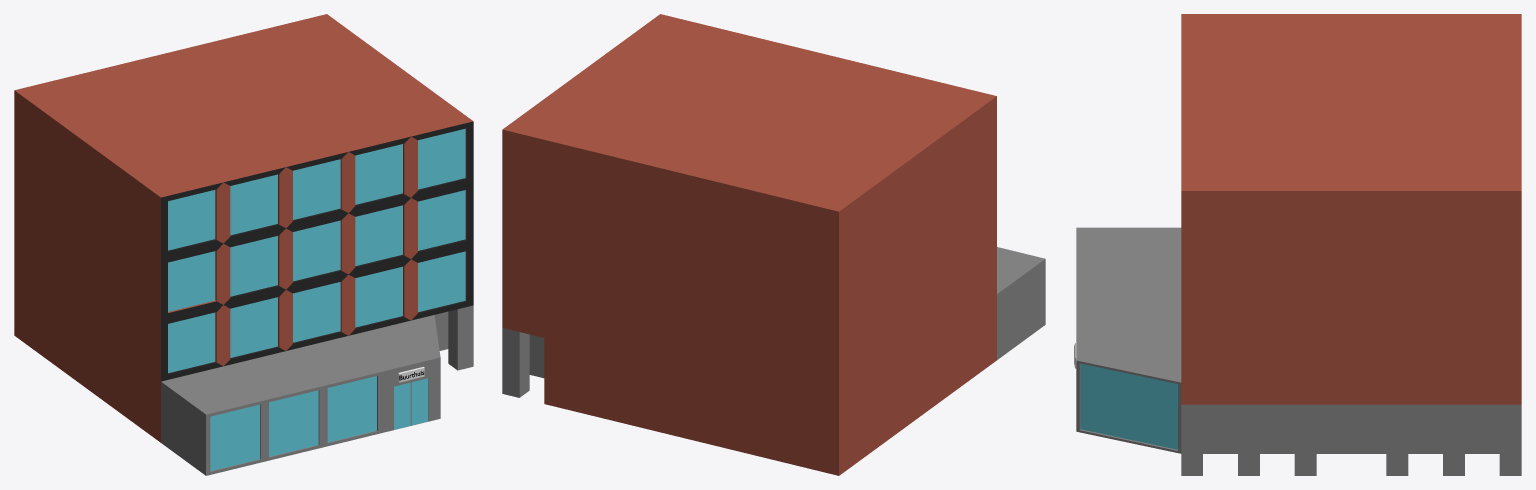
File: buurthuis 1.fbx
3 views of the same model, side by side, from view 1: azimuth 30°, elevation 25°; view 2: azimuth 150°, elevation 25°; view 3: azimuth 270°, elevation 25° (orthographic). The views are drawn at different scales.
Parts seen in each view (by area): view 1: appartementen, buurthuis; view 2: appartementen, buurthuis; view 3: appartementen, buurthuis.
Boxes of the visible parts, box(x1,y1,x2,y2) form: appartementen: box(14, 14, 473, 442); buurthuis: box(161, 315, 440, 475); appartementen: box(502, 14, 996, 475); buurthuis: box(997, 247, 1045, 359); appartementen: box(1181, 14, 1521, 475); buurthuis: box(1076, 227, 1181, 453).
Size of the model in its own units: 3200 by 2400 by 3417.
